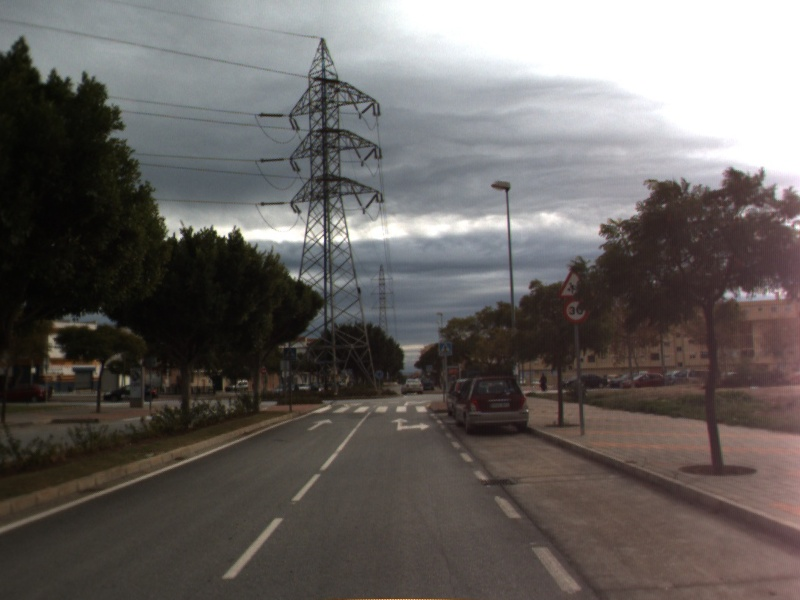STRAIGHT: (305, 417, 335, 432)
STRAIGHT_RIGHT: (389, 416, 432, 433)
